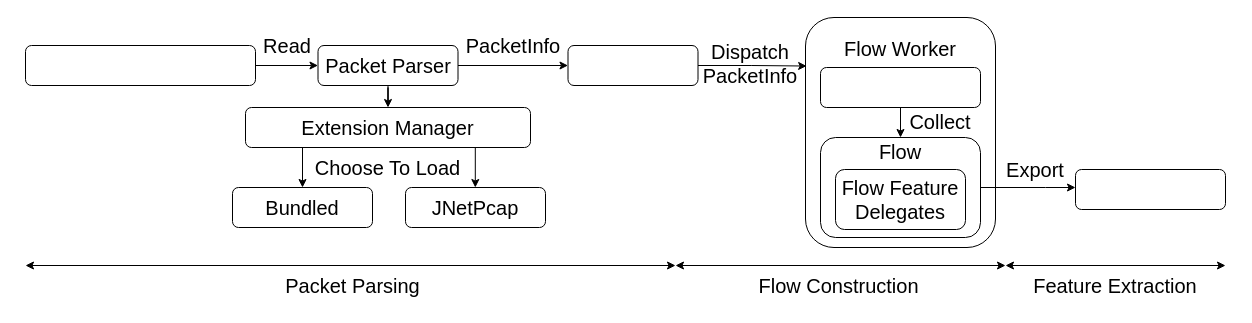
Image size: 1252x323. Some labels were removed from this diagram. Here are the shapes that lost their labels. From the top down, the centre of each, then its label:
At (140,65): "PCAP/PCAPNG File".
At (632,65): "Dispatcher".
At (900,87): "FlowGenerator".
At (1150,189): "Flow Features".
